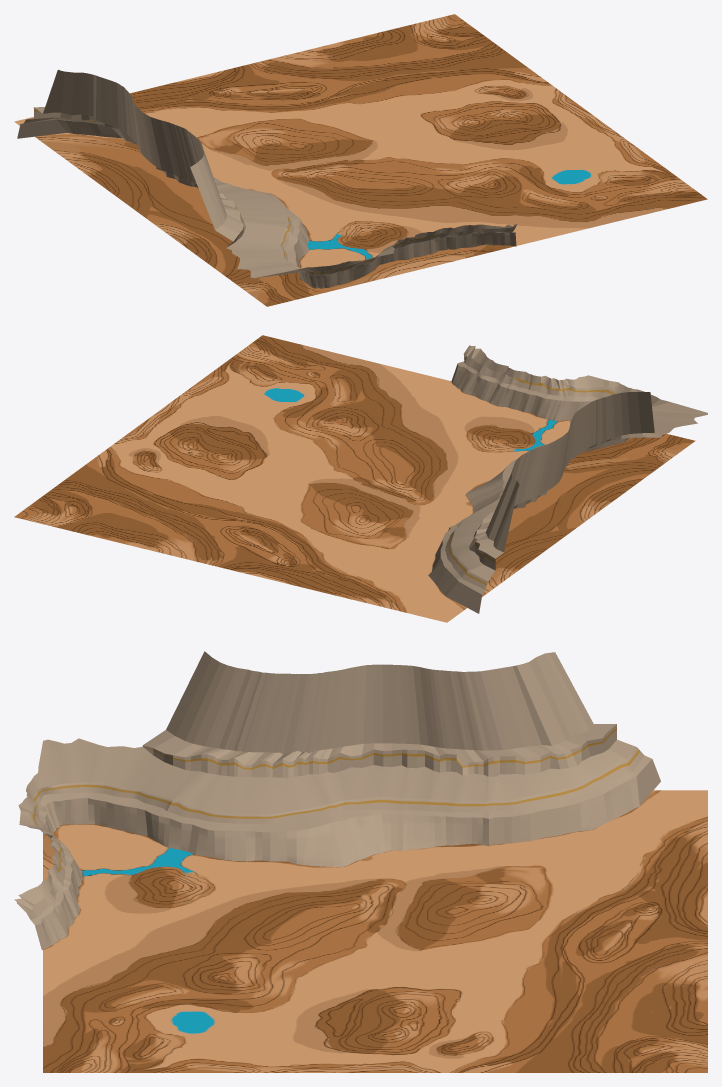
Rendered from topo_01.fbx.
3 renders of one model, top to bottom at view 1: azimuth 30°, elevation 25°; view 2: azimuth 150°, elevation 25°; view 3: azimuth 270°, elevation 25°, orthographic. The views are drawn at different scales.
Parts seen in each view (by area): view 1: pPlane1, pPlane2; view 2: pPlane1, pPlane2; view 3: pPlane1, pPlane2.
Part boxes in pixels (bbox=[...]): pPlane1: bbox=[14, 14, 707, 306]; pPlane2: bbox=[17, 69, 516, 288]; pPlane1: bbox=[14, 335, 695, 622]; pPlane2: bbox=[428, 345, 707, 613]; pPlane1: bbox=[43, 790, 707, 1072]; pPlane2: bbox=[14, 651, 660, 949].
Size of the model in its own units: 3466 by 717 by 3469.
Materials: 3 (1 with a texture image).
